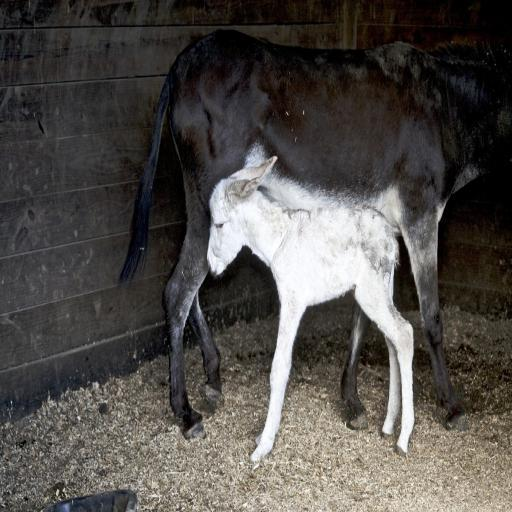horse: (116, 26, 511, 447), (206, 156, 416, 466)
